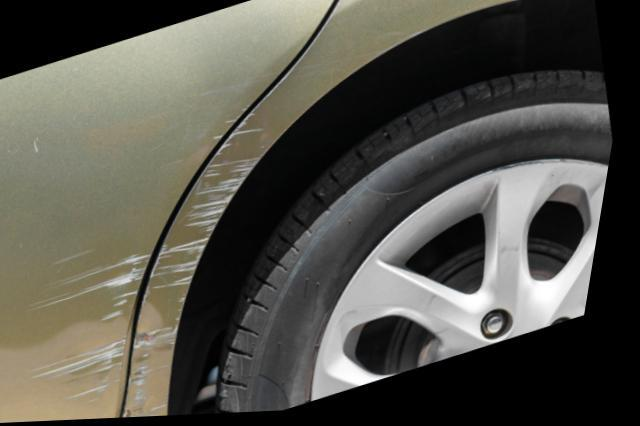scratch: (138, 112, 271, 419), (38, 244, 156, 402)
